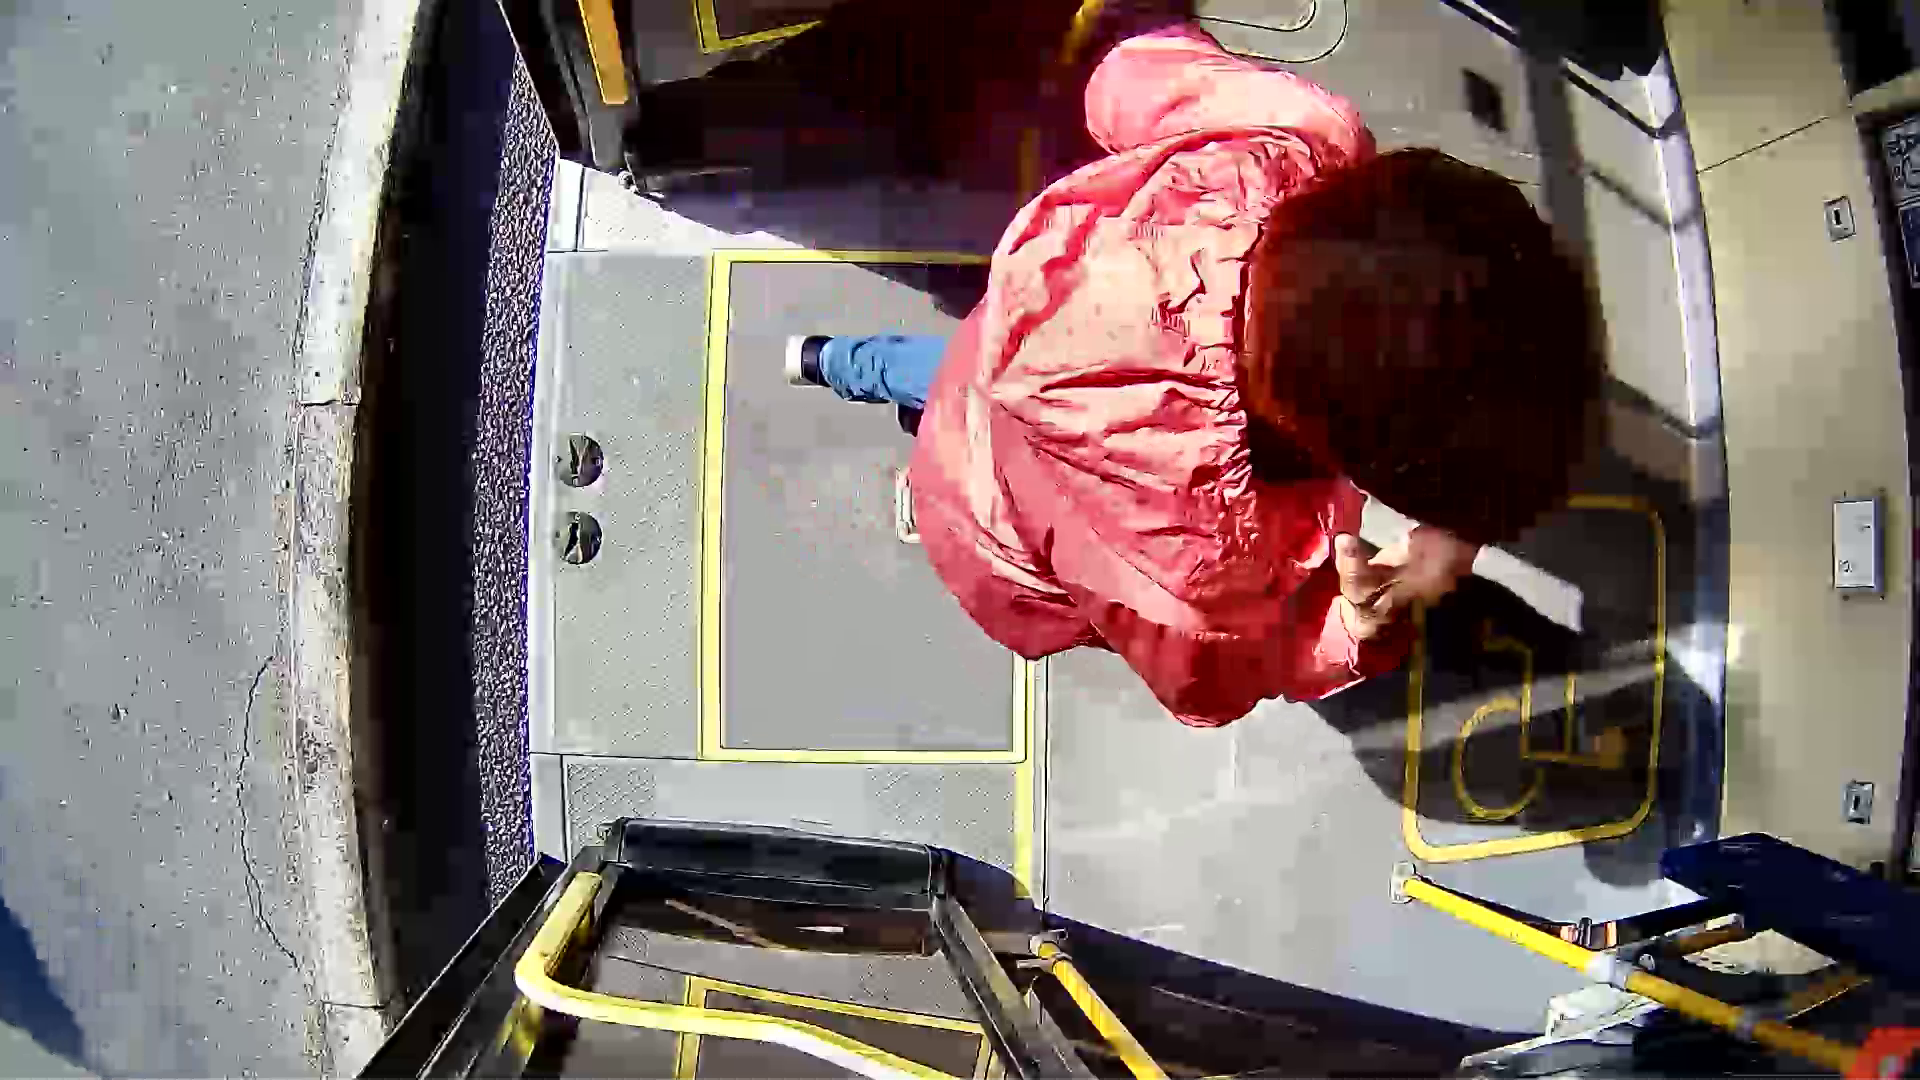person: (841, 81, 1586, 695)
